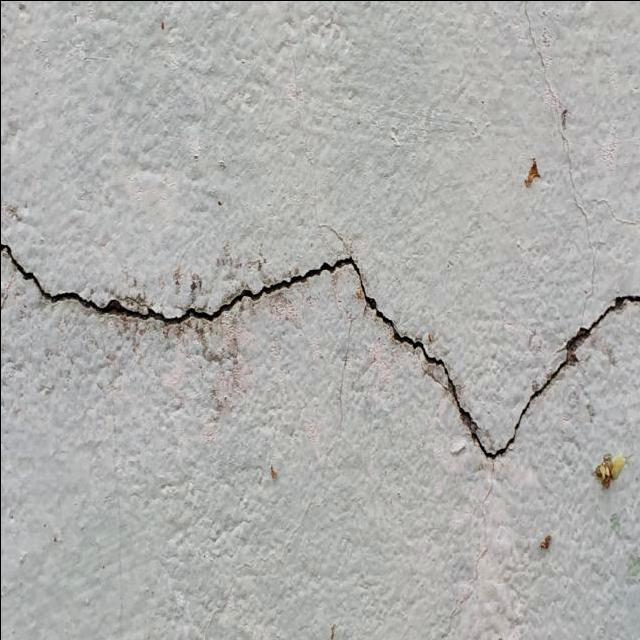SurfaceCrack: (0, 207, 606, 490)
